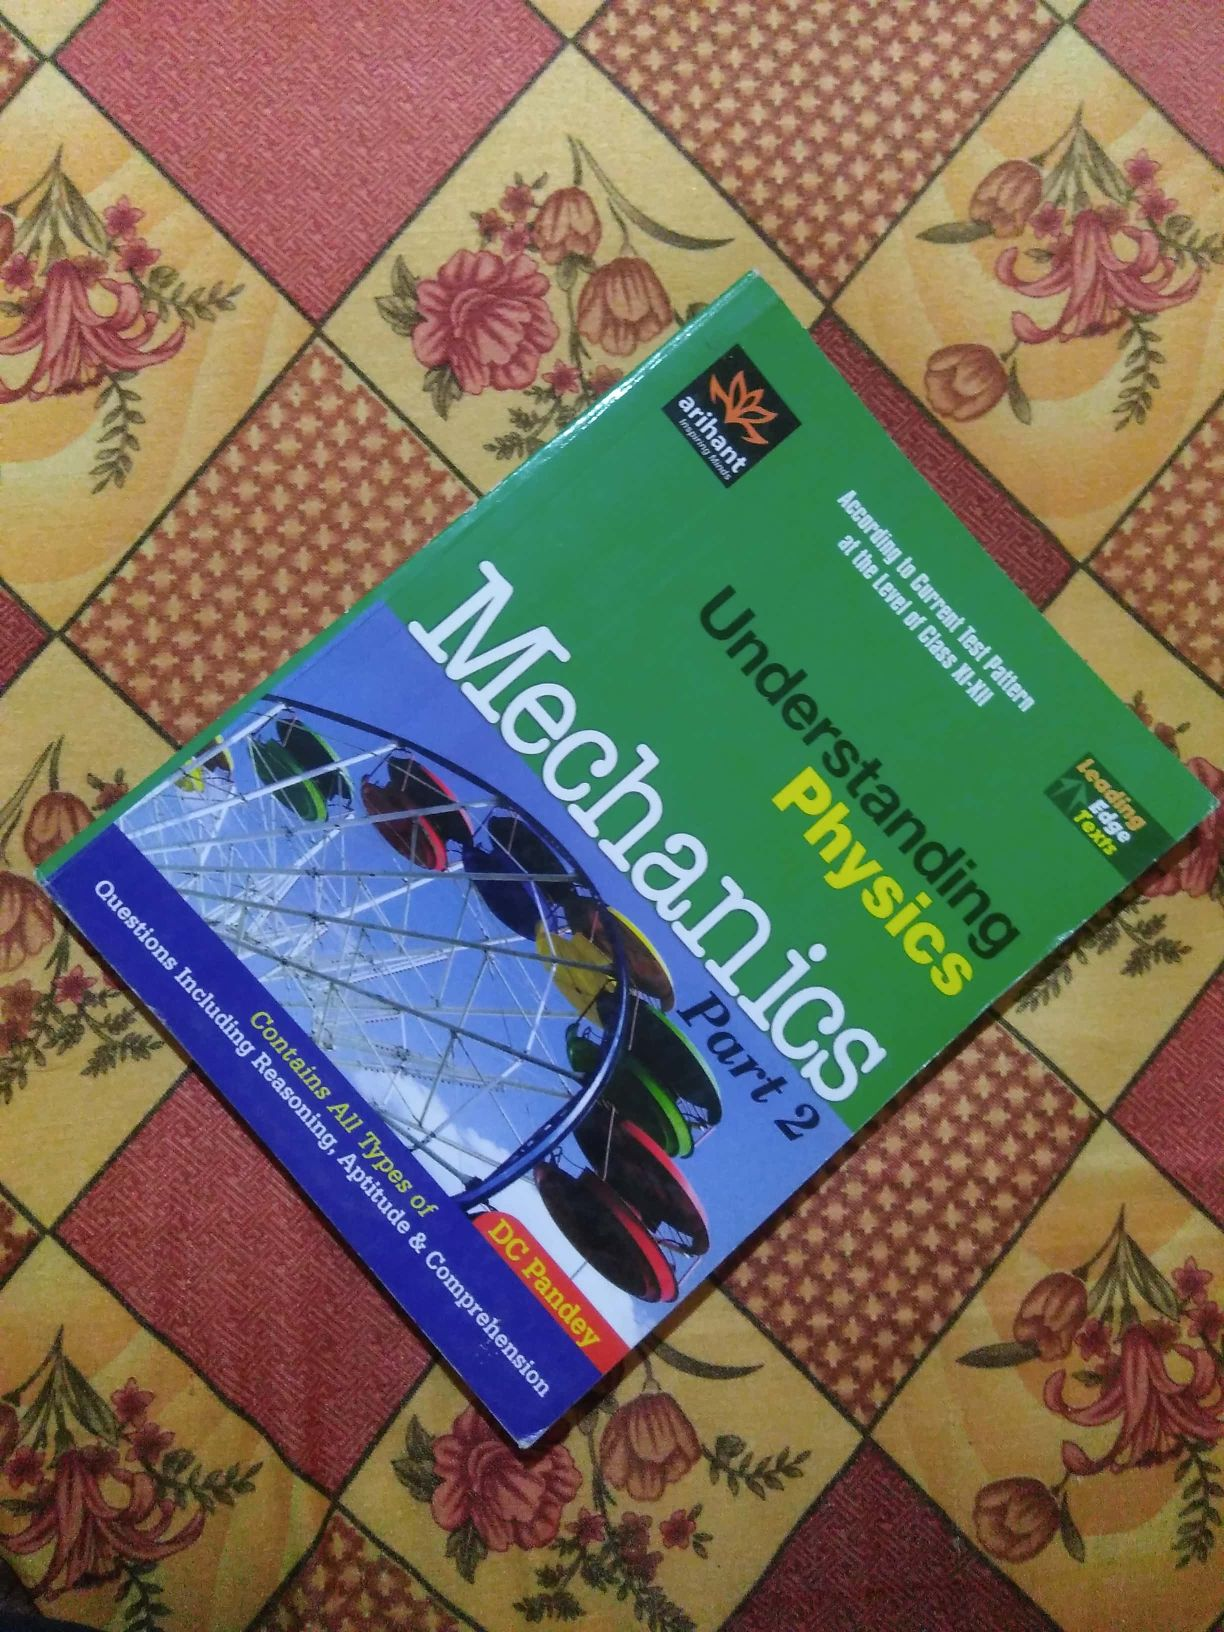mechanics: (60, 344, 1192, 1380)
